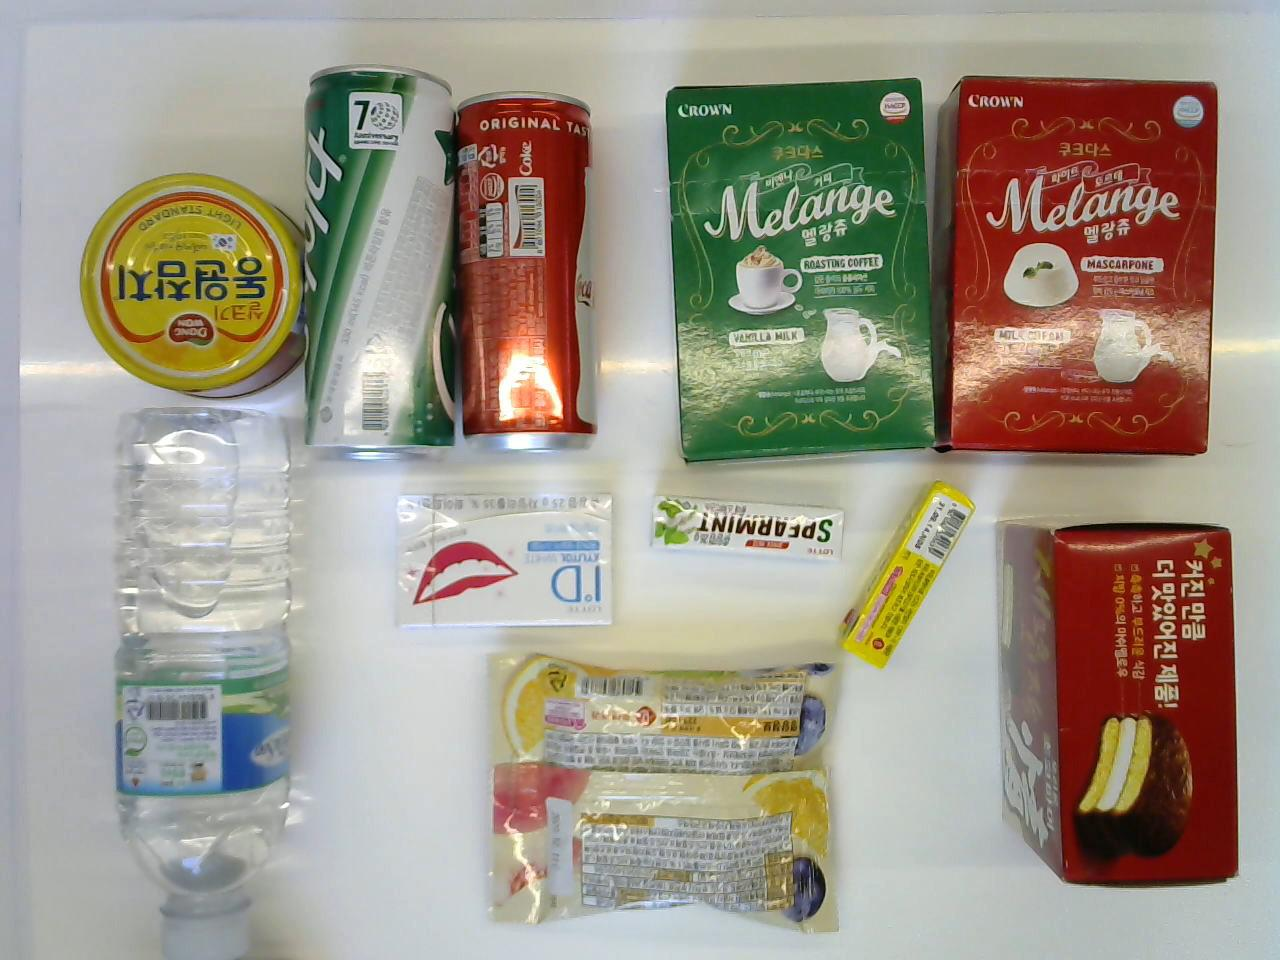ID_gum: (382, 480, 627, 634)
chocopie: (987, 513, 1239, 896)
cidar: (289, 59, 463, 462)
coke: (445, 81, 603, 456)
couque_coffee: (658, 65, 940, 470)
couque_white: (929, 65, 1223, 470)
gumi_gumi: (473, 649, 851, 938)
juicyfresh: (836, 480, 972, 666)
samdasu: (108, 399, 302, 958)
spearmint: (643, 482, 851, 568)
tuna: (75, 166, 315, 401)
